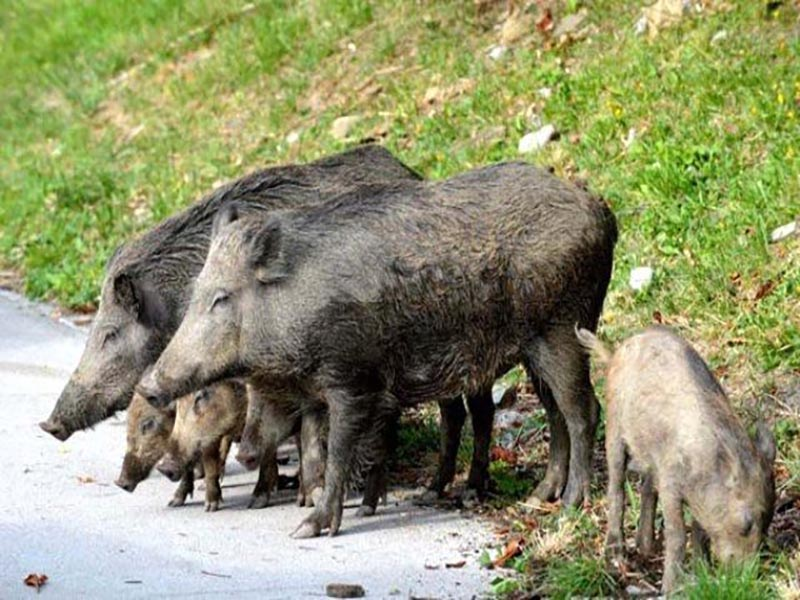cinghiale: (146, 164, 615, 508), (566, 310, 780, 592), (27, 225, 186, 431), (161, 381, 251, 485), (220, 400, 308, 472), (116, 387, 175, 494)
